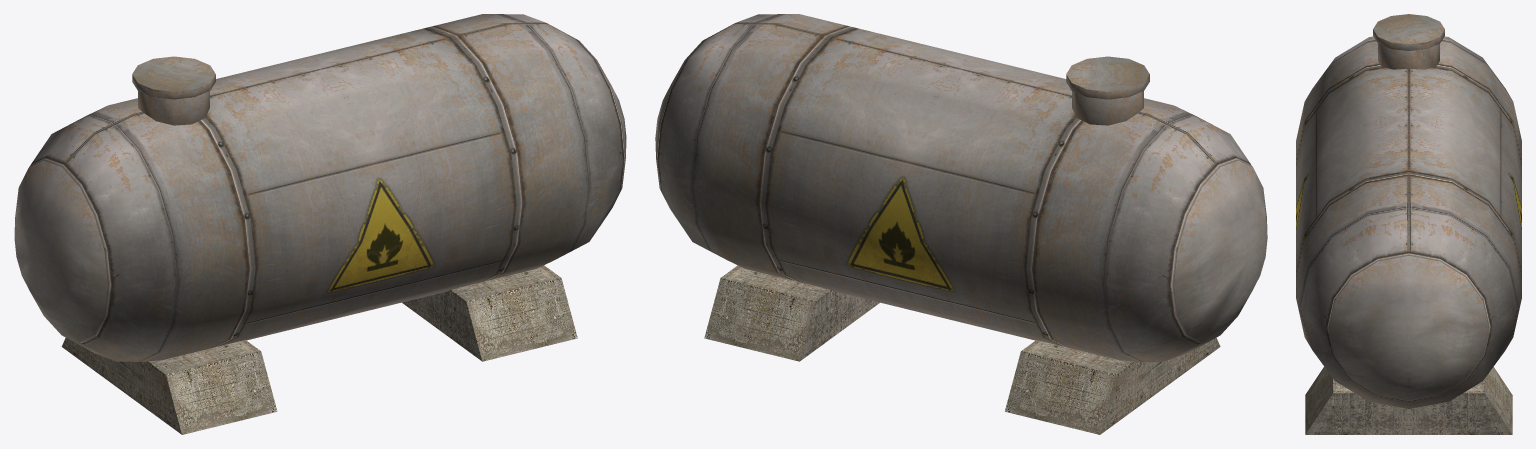
Rendered from Cover_Yg02.glb.
The picture shows the model from 3 angles, left to right: view 1: azimuth 30°, elevation 25°; view 2: azimuth 150°, elevation 25°; view 3: azimuth 270°, elevation 25°; orthographic projection. The views are drawn at different scales.
Visible parts, largest first — view 1: xiutz_yg_02; view 2: xiutz_yg_02; view 3: xiutz_yg_02.
Boxes of the visible parts, x1,y1,x2,y2 form: xiutz_yg_02: (14,14,626,434); xiutz_yg_02: (655,14,1267,434); xiutz_yg_02: (1296,14,1521,434).
Size of the model in its own units: 15.37 by 7.73 by 6.05.
1 material, 1 textured.
